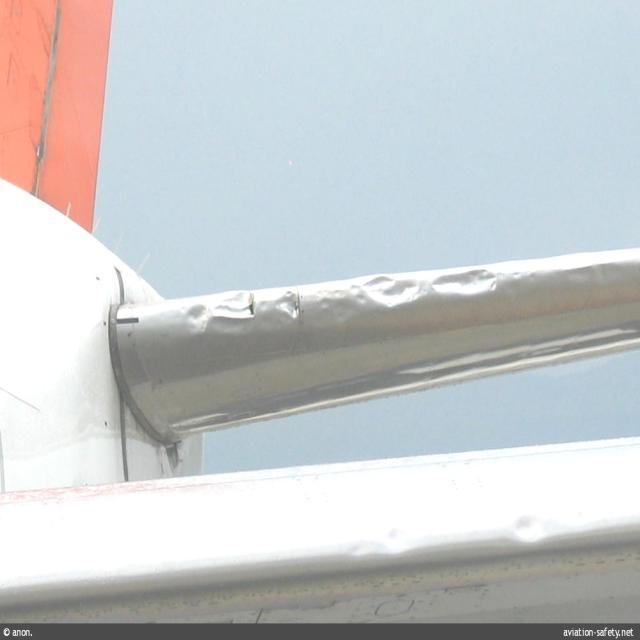dent: (185, 291, 259, 332), (358, 276, 429, 313), (427, 264, 503, 298), (511, 512, 553, 548), (352, 531, 408, 558), (277, 292, 305, 322)
